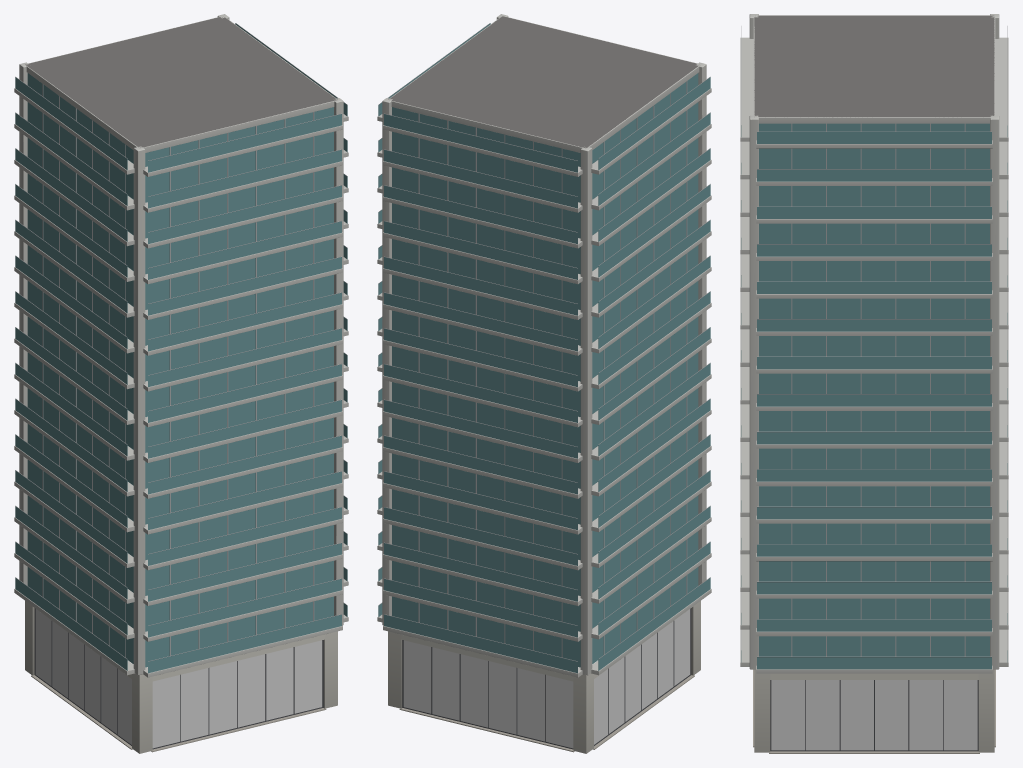
Rendered from CondoTower2MIA.fbx.
3 renders of one model, left to right at view 1: azimuth 30°, elevation 25°; view 2: azimuth 150°, elevation 25°; view 3: azimuth 270°, elevation 25°, orthographic. The views are drawn at different scales.
Parts seen in each view (by area): view 1: CondoTower2MIA; view 2: CondoTower2MIA; view 3: CondoTower2MIA.
Boxes of the visible parts, bbox=[...] form: CondoTower2MIA: bbox=[14, 14, 348, 753]; CondoTower2MIA: bbox=[377, 14, 711, 753]; CondoTower2MIA: bbox=[740, 14, 1008, 753].
Bounding box in the file's own units: 20.1 × 52.57 × 20.1.
